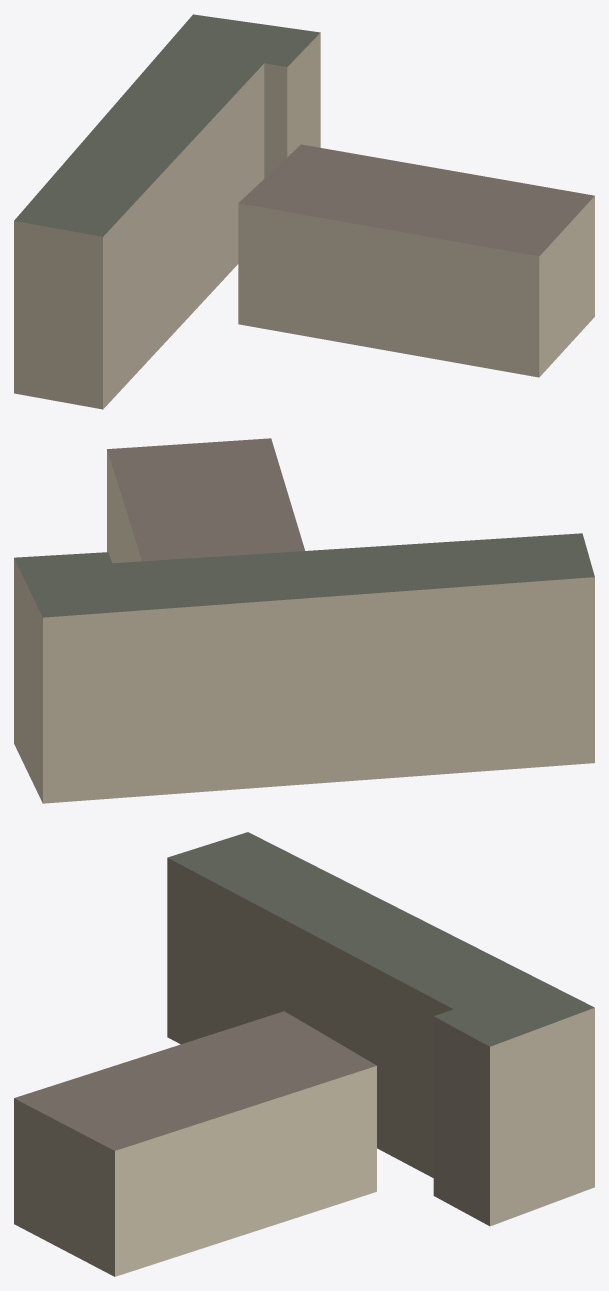
The picture shows the model from 3 angles, top to bottom: view 1: azimuth 30°, elevation 25°; view 2: azimuth 150°, elevation 25°; view 3: azimuth 270°, elevation 25°; orthographic projection. The views are drawn at different scales.
Parts seen in each view (by area): view 1: tuile; view 2: tuile; view 3: tuile.
Part boxes in pixels (x1=…): tuile: x1=14, y1=14, x2=594, y2=409; tuile: x1=14, y1=438, x2=594, y2=803; tuile: x1=14, y1=832, x2=594, y2=1276.
Size of the model in its own units: 15.4 by 4.99 by 14.4.
